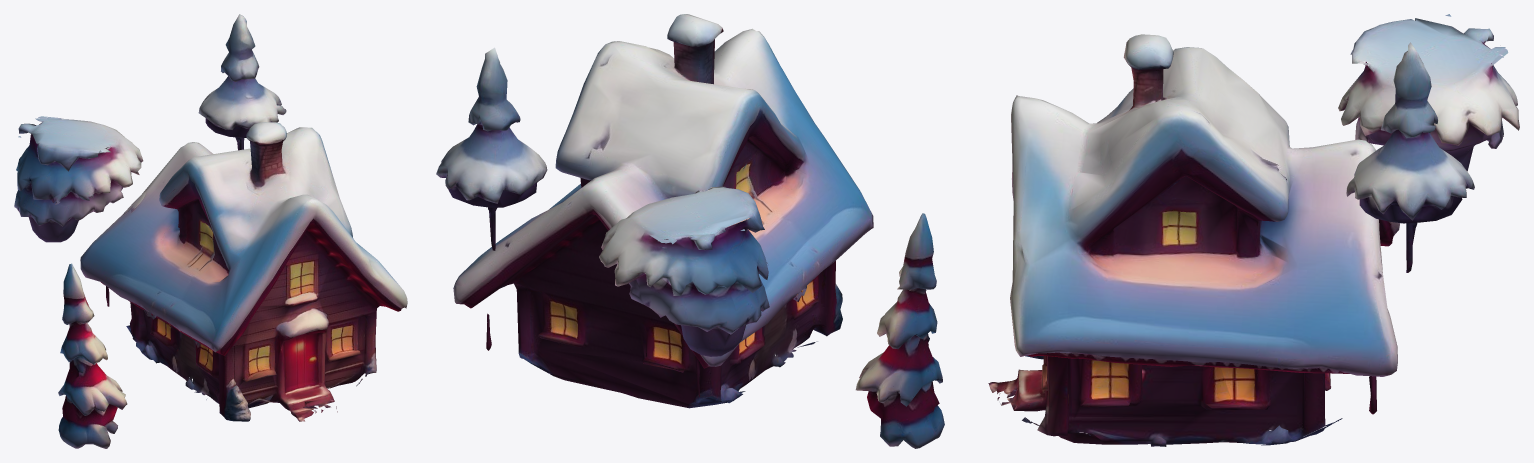
File: house_cabin.glb
The picture shows the model from 3 angles, left to right: view 1: azimuth 30°, elevation 25°; view 2: azimuth 150°, elevation 25°; view 3: azimuth 270°, elevation 25°; orthographic projection. The views are drawn at different scales.
Parts seen in each view (by area): view 1: tripo_node_7f4e34c0; view 2: tripo_node_7f4e34c0; view 3: tripo_node_7f4e34c0.
Part boxes in pixels (x1,y1,x2,y2): tripo_node_7f4e34c0: (14,14,407,448); tripo_node_7f4e34c0: (436,14,944,448); tripo_node_7f4e34c0: (988,14,1519,446).
Size of the model in its own units: 91.33 by 88.57 by 99.44.
Materials: 1 (1 with a texture image).
